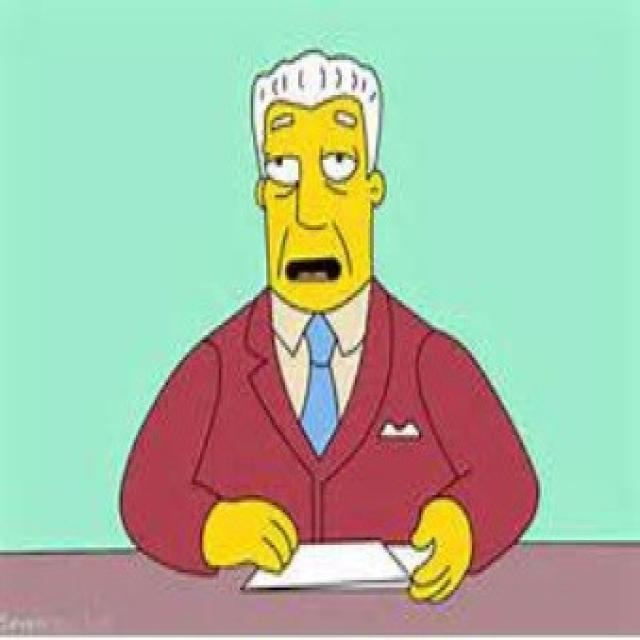Kent Brockman: (245, 46, 389, 319)
